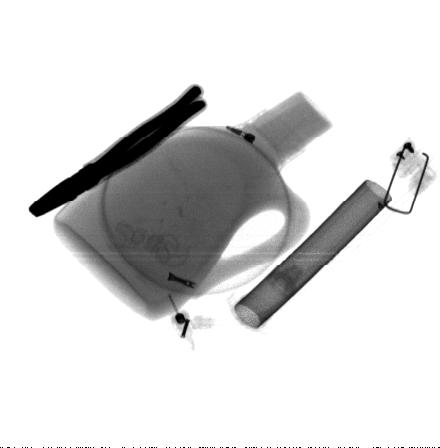Pliers: (27, 84, 209, 218)
